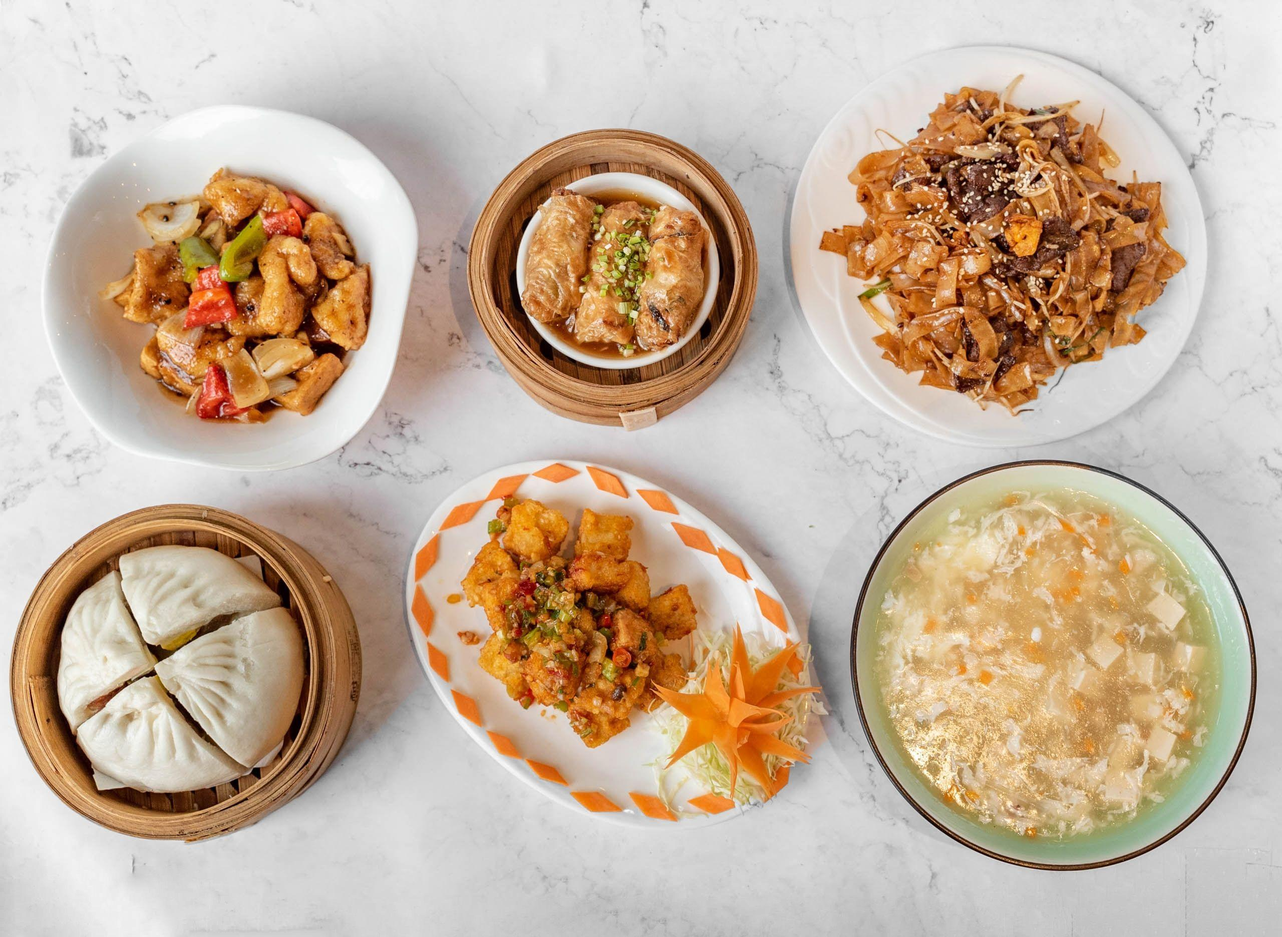Braised Crucian Carp: (851, 466, 1253, 870), (820, 44, 1212, 453), (421, 464, 806, 834), (40, 102, 422, 472), (7, 506, 370, 839), (464, 129, 751, 423)
